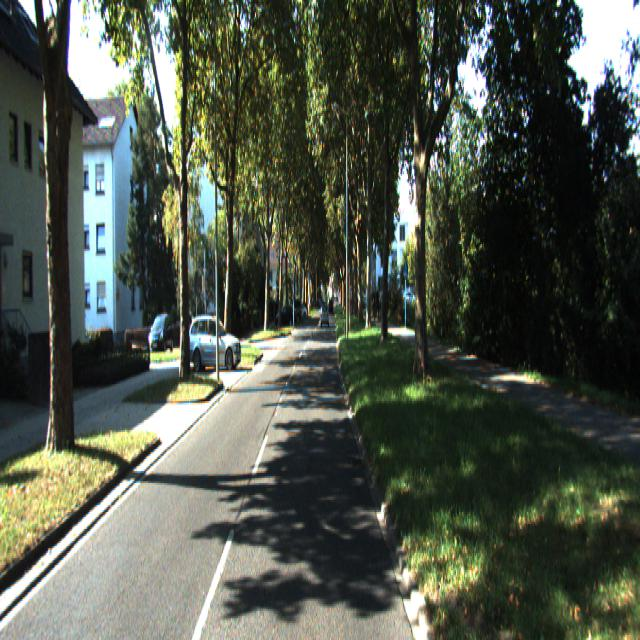Car: (184, 314, 243, 370)
